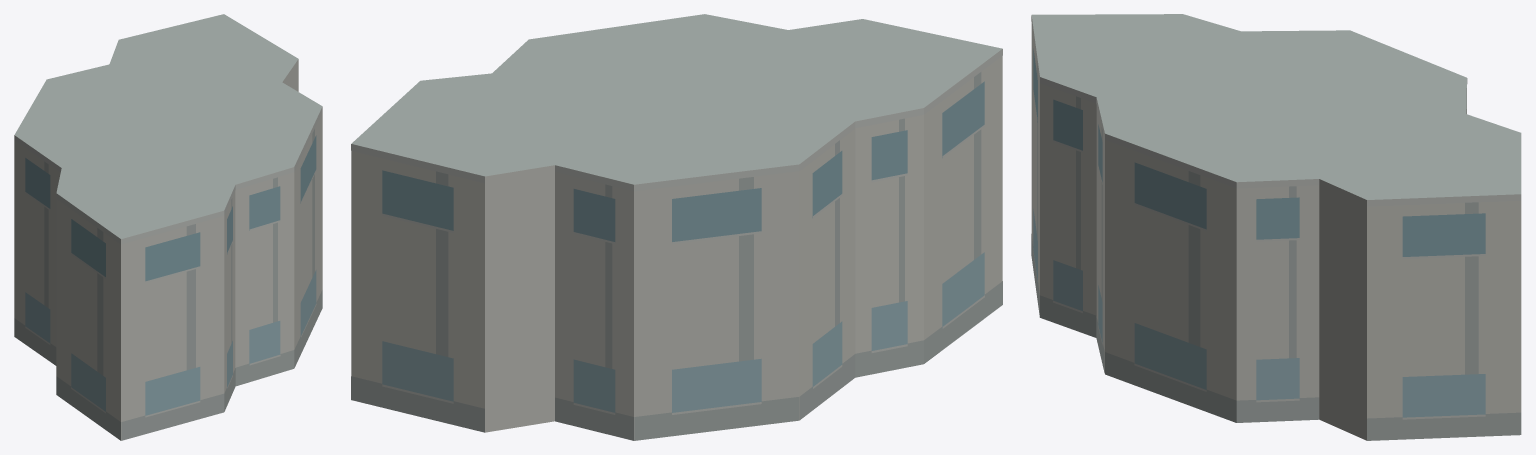
File: survey-upis-32457255.glb
3 renders of one model, left to right at view 1: azimuth 30°, elevation 25°; view 2: azimuth 150°, elevation 25°; view 3: azimuth 270°, elevation 25°, orthographic. The views are drawn at different scales.
Parts seen in each view (by area): view 1: survey-upis-32457255.tmp; view 2: survey-upis-32457255.tmp; view 3: survey-upis-32457255.tmp.
Boxes of the visible parts, x1,y1,x2,y2 form: survey-upis-32457255.tmp: (14, 14, 322, 440); survey-upis-32457255.tmp: (351, 14, 1002, 440); survey-upis-32457255.tmp: (1031, 14, 1521, 440).
Size of the model in its own units: 15.17 by 9.15 by 16.88.
